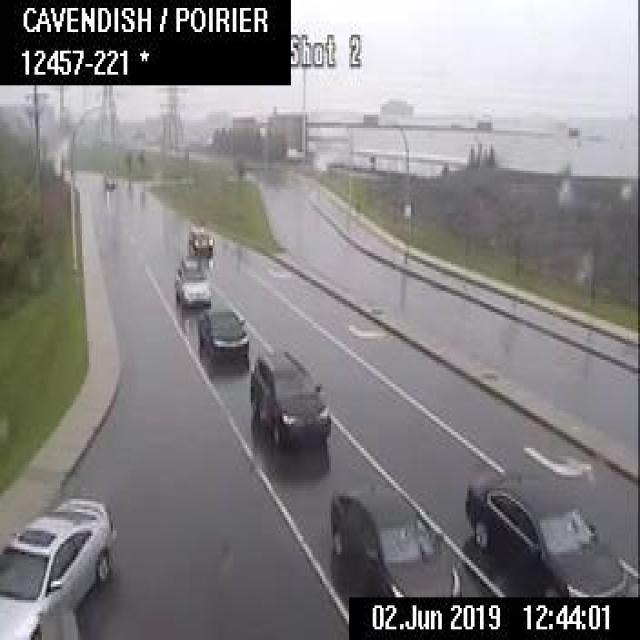vehicle: (463, 469, 628, 594), (0, 487, 116, 637), (327, 480, 459, 595), (248, 350, 333, 451), (198, 307, 247, 361), (173, 265, 210, 308), (186, 225, 212, 255), (102, 175, 114, 190)
